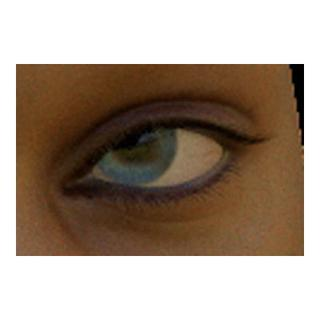pupil: (115, 124, 151, 160)
